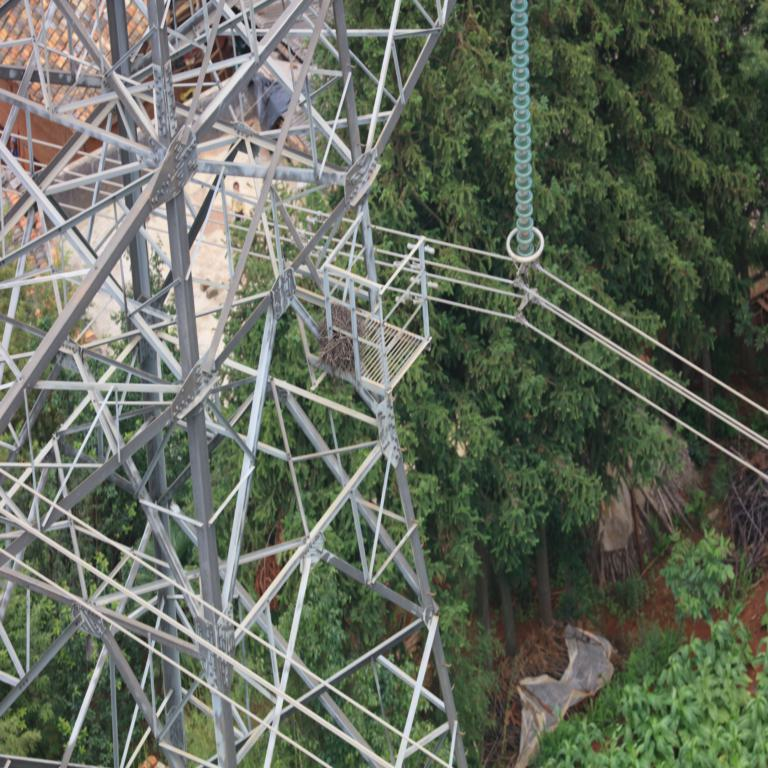nest: (318, 307, 364, 369)
